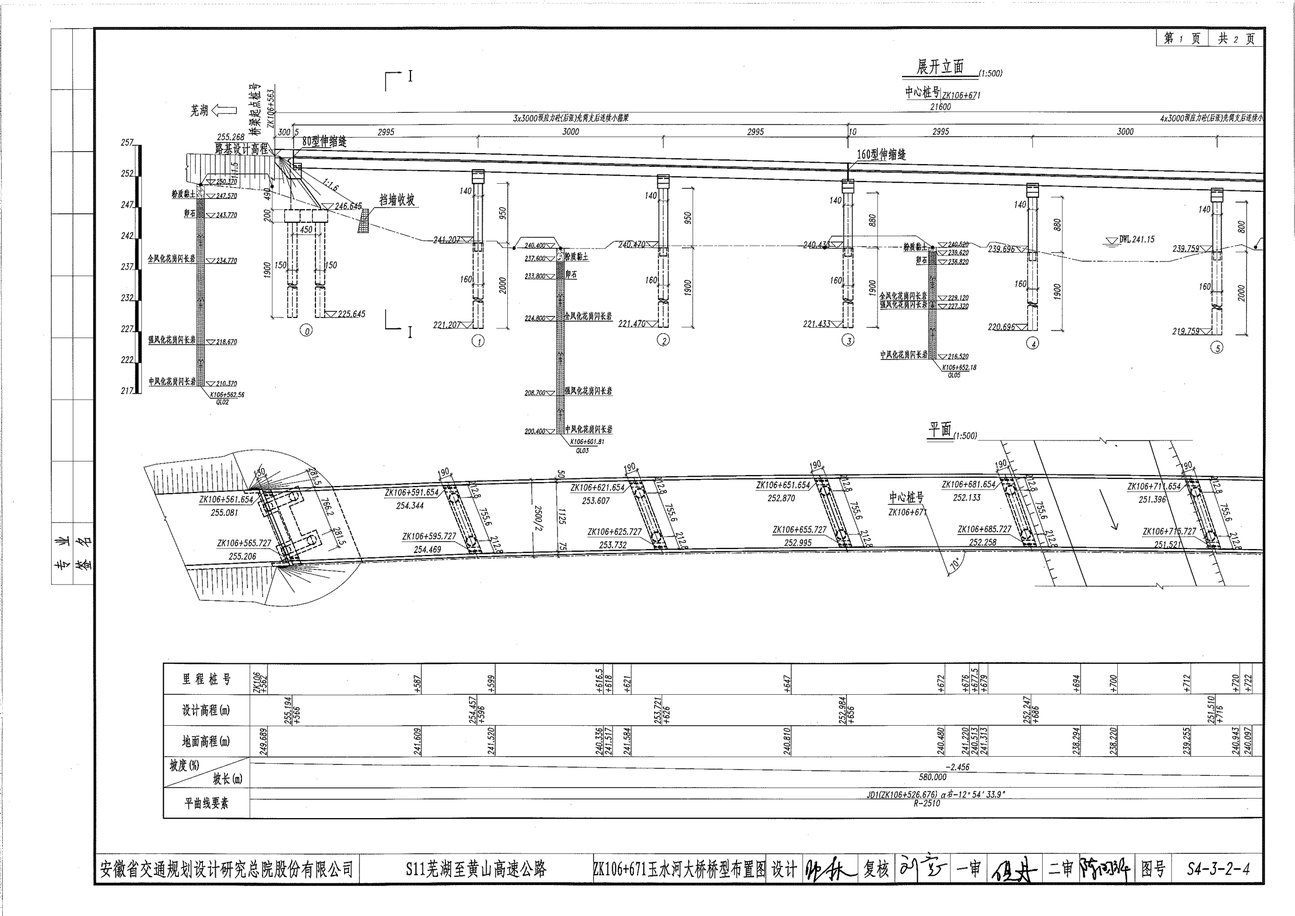A: (112, 51, 1282, 372)
